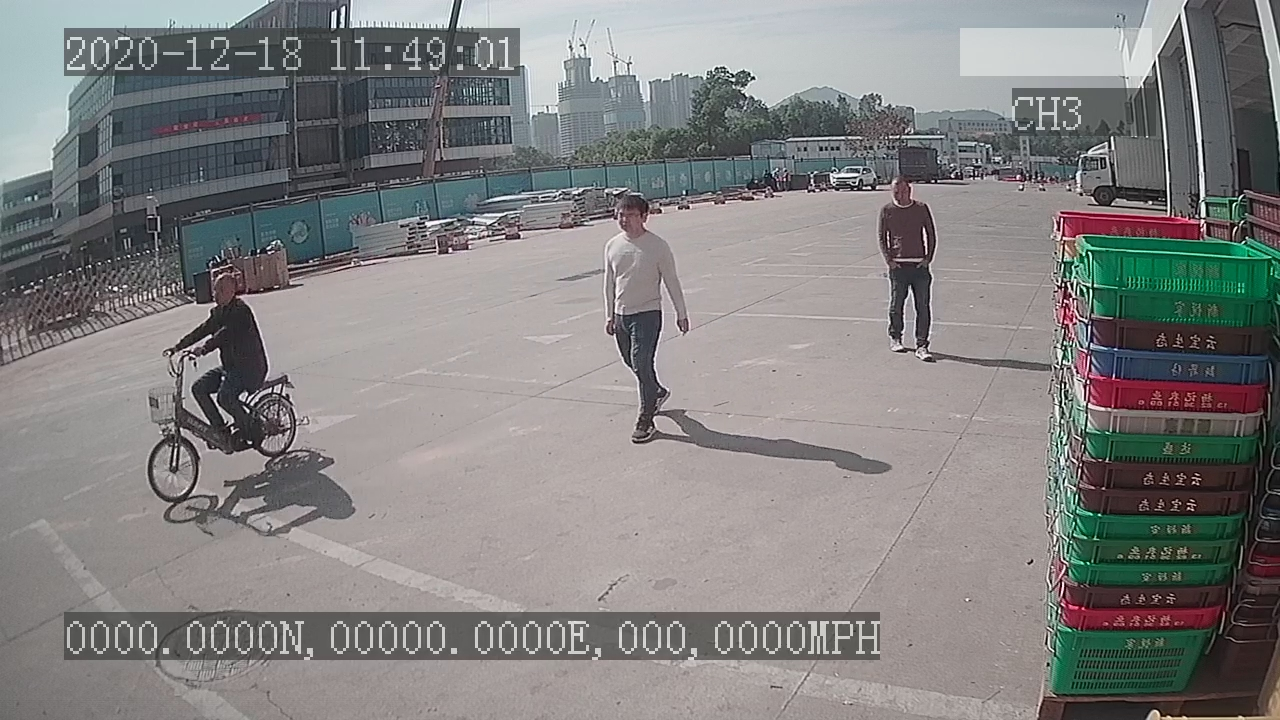person: (597, 190, 693, 449), (874, 174, 942, 363)
